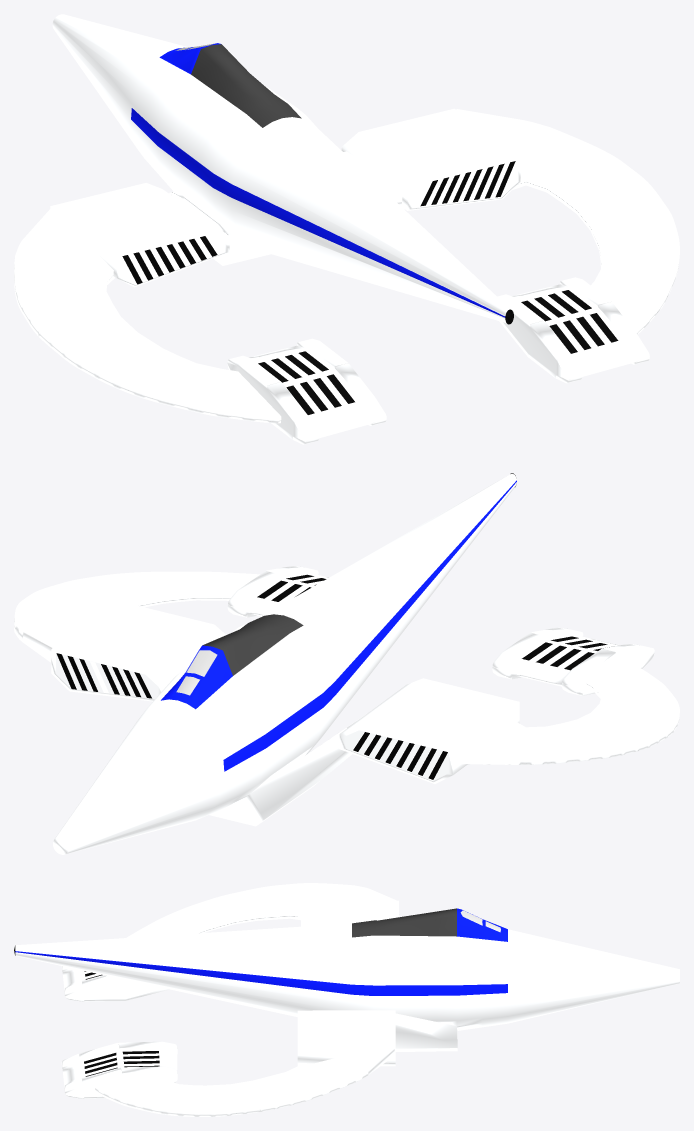
Rendered from Protector11.glb.
3 renders of one model, top to bottom at view 1: azimuth 30°, elevation 25°; view 2: azimuth 150°, elevation 25°; view 3: azimuth 270°, elevation 25°, orthographic. The views are drawn at different scales.
Visible parts, largest first — view 1: hull, left wing, right wing, right_front_engine, left_front_engine, right engine cube, right engine cube.001; view 2: hull, left wing, right_front_engine, left_front_engine, right wing, right engine cube.001, right engine cube; view 3: hull, right wing, left wing, right_front_engine, right engine cube, left_front_engine, right engine cube.001.
Boxes of the visible parts, bbox=[...] form: hull: bbox=[52, 14, 510, 323]; left wing: bbox=[14, 207, 281, 423]; right wing: bbox=[456, 109, 679, 334]; right_front_engine: bbox=[341, 108, 520, 210]; left_front_engine: bbox=[50, 183, 229, 287]; right engine cube: bbox=[497, 277, 649, 383]; right engine cube.001: bbox=[227, 338, 386, 444]; hull: bbox=[53, 473, 516, 854]; left wing: bbox=[453, 663, 679, 764]; right_front_engine: bbox=[51, 601, 225, 701]; left_front_engine: bbox=[339, 678, 519, 783]; right wing: bbox=[14, 571, 259, 662]; right engine cube.001: bbox=[492, 627, 654, 695]; right engine cube: bbox=[227, 566, 328, 617]; hull: bbox=[15, 908, 679, 1051]; right wing: bbox=[94, 1044, 395, 1116]; left wing: bbox=[126, 883, 396, 937]; right_front_engine: bbox=[297, 1010, 395, 1066]; right engine cube: bbox=[61, 1041, 177, 1098]; left_front_engine: bbox=[301, 900, 399, 926]; right engine cube.001: bbox=[61, 966, 168, 1001].
Size of the model in its own units: 3.95 by 1.05 by 5.06.
